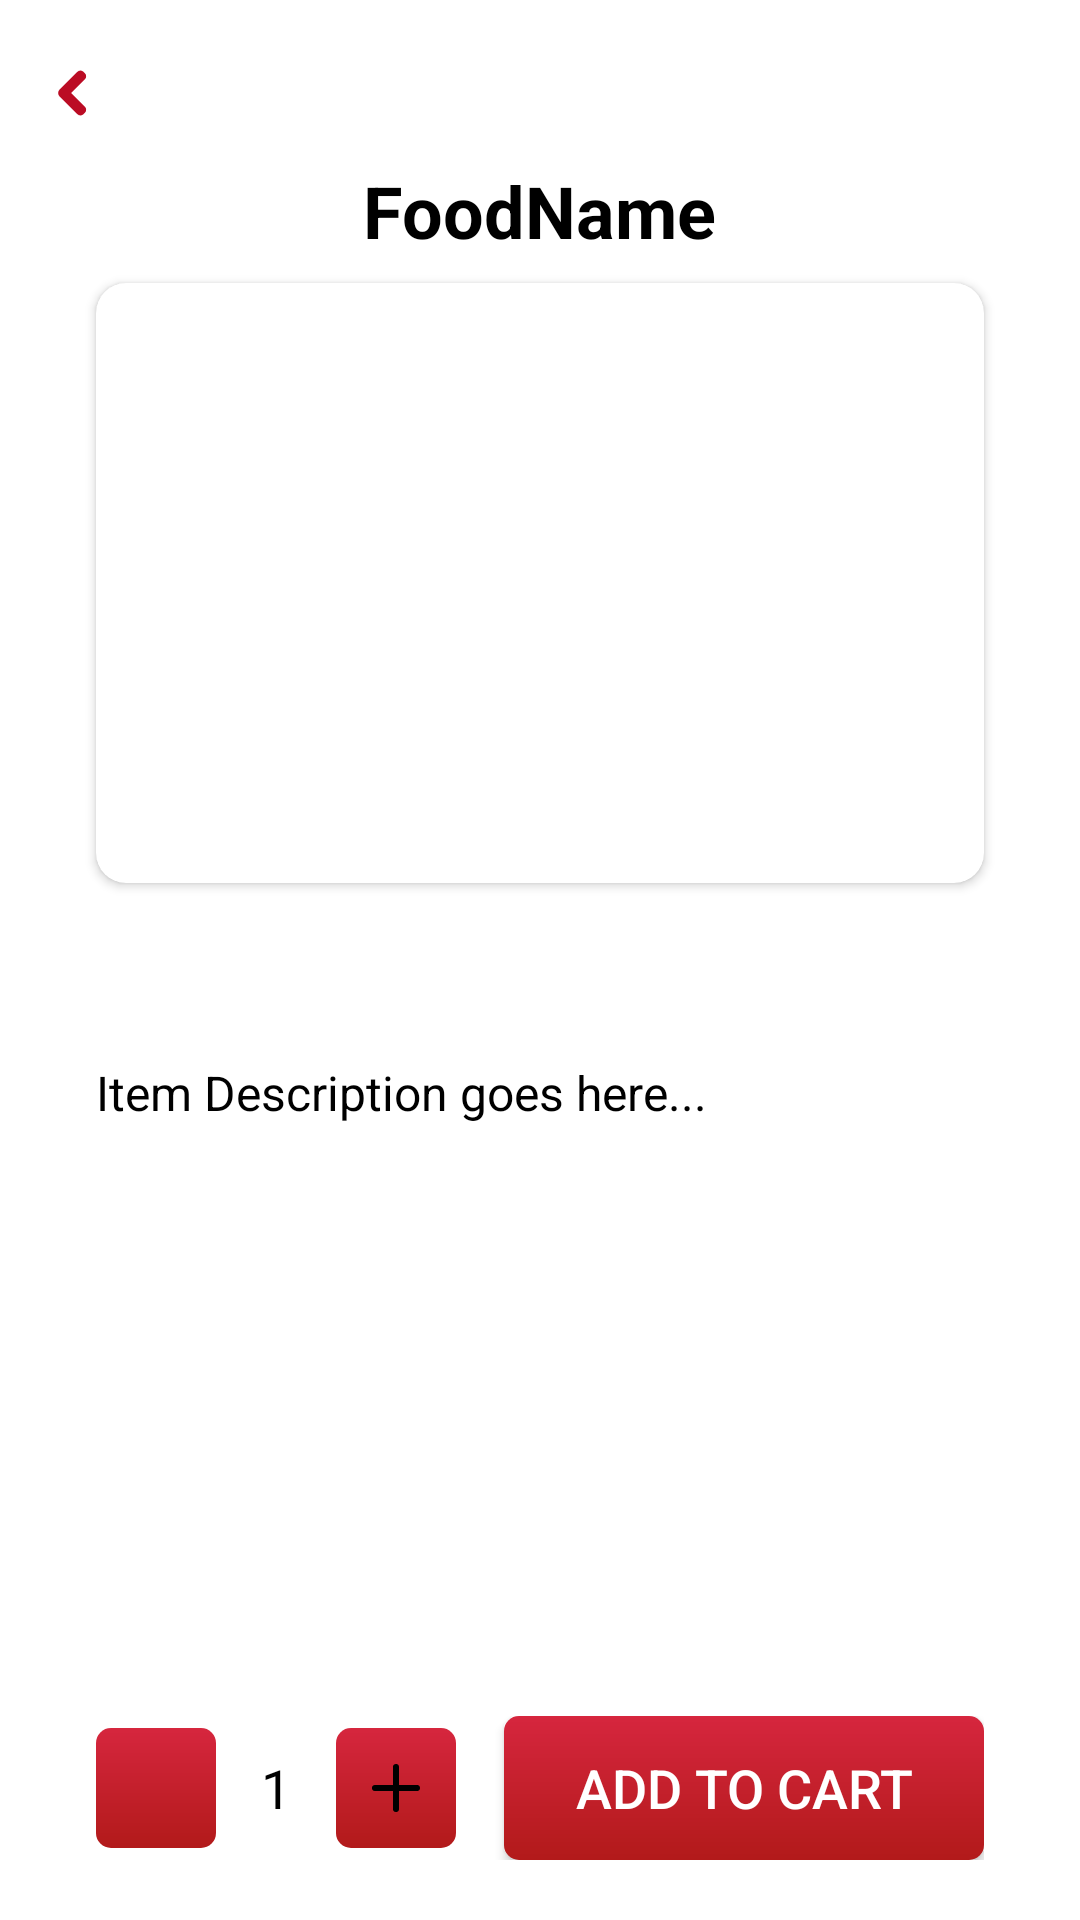

Icons on this 1080 x 1920 Android screen, each with the point to tap as (x,y):
arrow left: (72,93)
plus: (396,1788)
